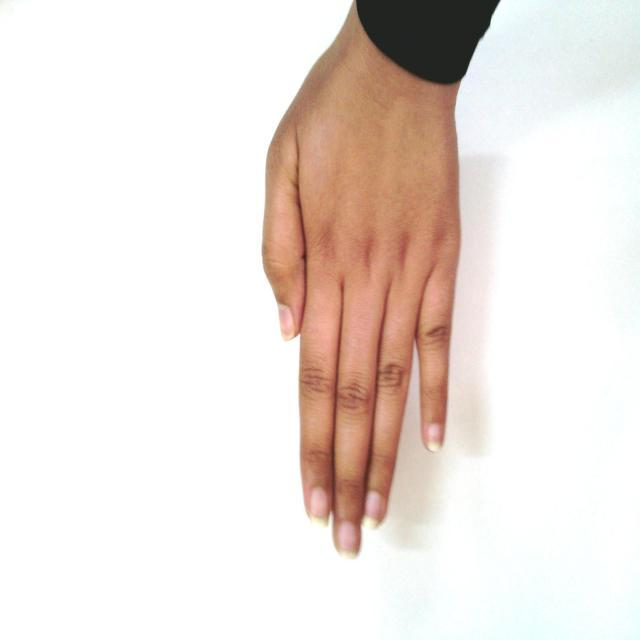Fingernail: (337, 522, 358, 559), (363, 492, 383, 530), (309, 487, 328, 527), (279, 305, 294, 340), (426, 424, 442, 452)
